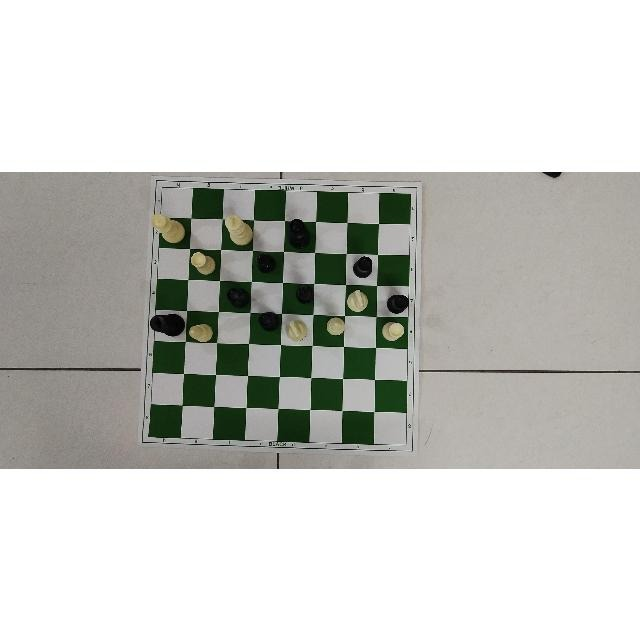black-bishop: (255, 251, 277, 273), (296, 284, 315, 304)
black-king: (149, 313, 185, 335)
black-queen: (287, 217, 312, 248)
black-rook: (226, 286, 249, 307), (353, 254, 373, 277), (258, 311, 280, 331), (387, 293, 409, 313)
white-bishop: (188, 323, 213, 341), (326, 316, 345, 335)
white-king: (224, 212, 254, 245)
white-knight: (347, 288, 369, 311), (286, 318, 307, 341)
white-queen: (151, 212, 185, 243)
white-rook: (190, 251, 216, 275), (382, 321, 406, 341)
